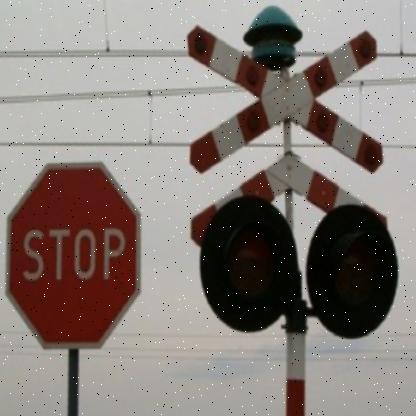Pedestrian Crossing: (12, 171, 136, 340)
